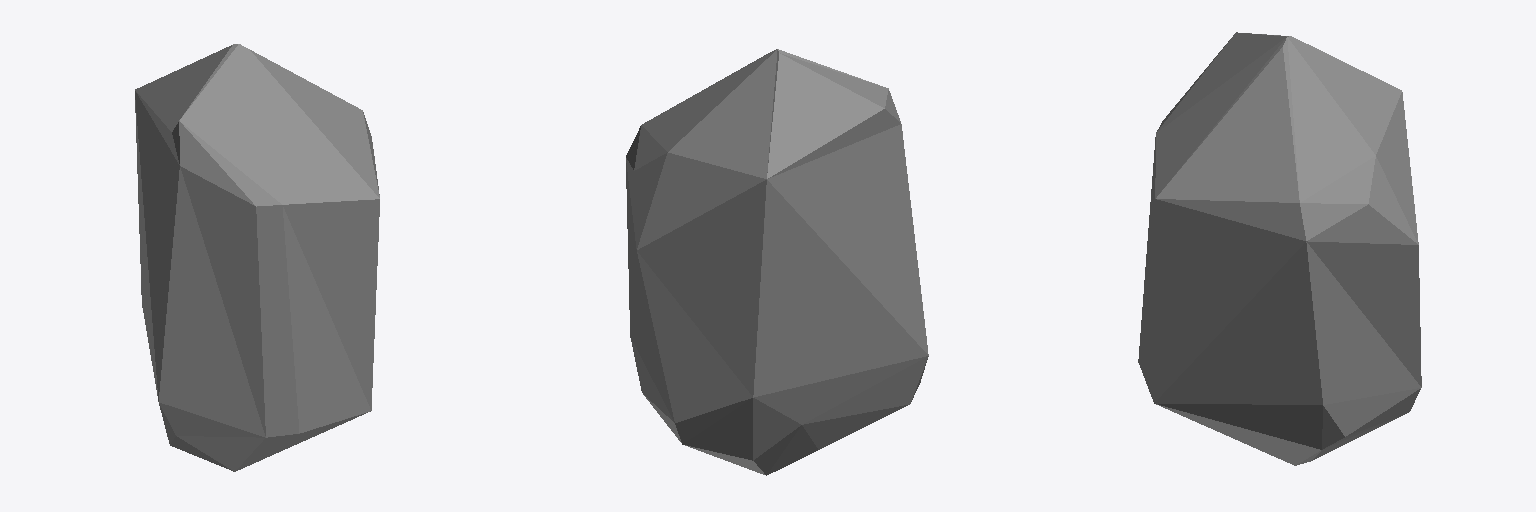
The picture shows the model from 3 angles: view 1: azimuth 30°, elevation 25°; view 2: azimuth 150°, elevation 25°; view 3: azimuth 270°, elevation 25°; orthographic projection.
Parts seen in each view (by area): view 1: crystal_small_003; view 2: crystal_small_003; view 3: crystal_small_003.
Boxes of the visible parts, x1,y1,x2,y2 form: crystal_small_003: [135, 44, 379, 471]; crystal_small_003: [626, 49, 928, 475]; crystal_small_003: [1138, 32, 1421, 465].
Bounding box in the file's own units: 2.62 × 4.14 × 2.5.